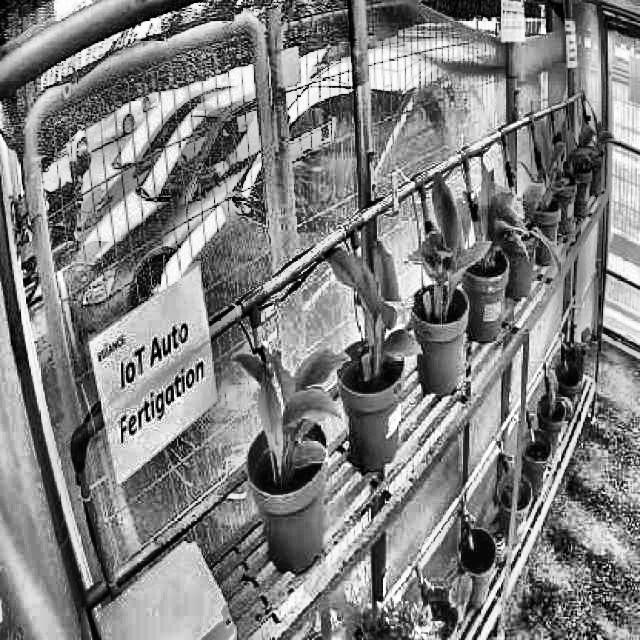plants: (230, 348, 348, 470), (325, 242, 423, 364), (408, 172, 478, 298), (480, 163, 526, 272), (534, 130, 566, 212)
